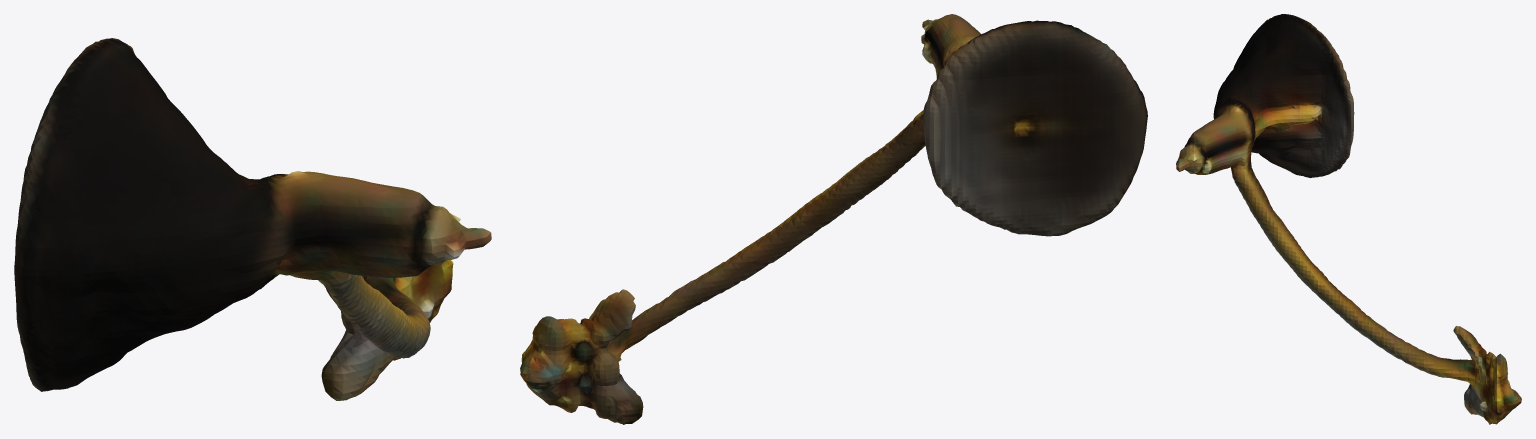
3 renders of one model, left to right at view 1: azimuth 30°, elevation 25°; view 2: azimuth 150°, elevation 25°; view 3: azimuth 270°, elevation 25°, orthographic. The views are drawn at different scales.
Bounding box in the file's own units: 0.7381 × 0.5973 × 0.6467.
